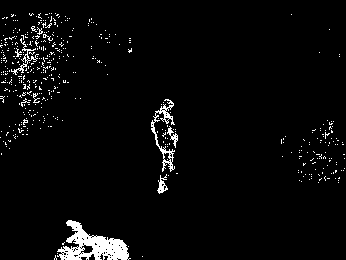person: (149, 97, 179, 195)
